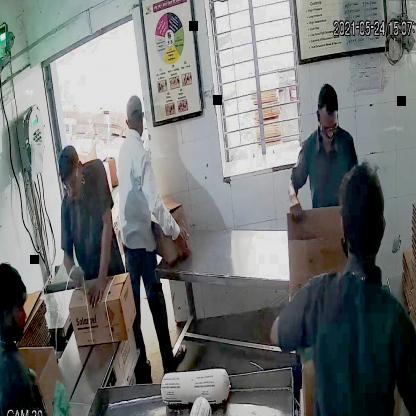goggles: (317, 117, 340, 138), (59, 171, 82, 192)
